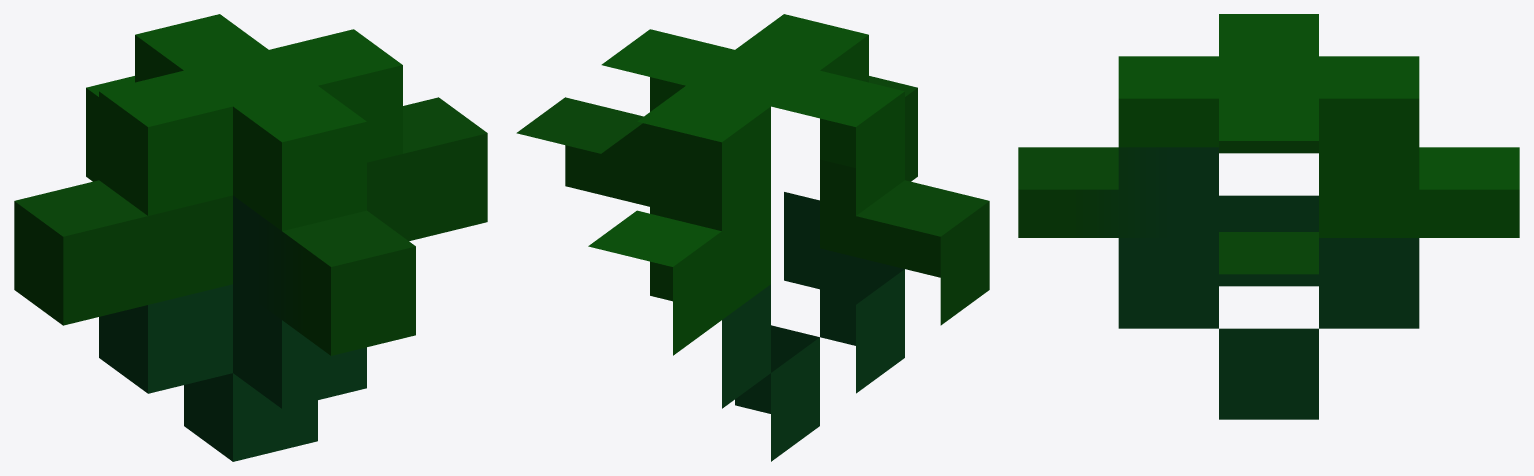
Rendered from Obstacle_Forest_bush_2.fbx.
3 renders of one model, left to right at view 1: azimuth 30°, elevation 25°; view 2: azimuth 150°, elevation 25°; view 3: azimuth 270°, elevation 25°, orthographic. The views are drawn at different scales.
Visible parts, largest first — view 1: Obstacle_Forest_bush_2; view 2: Obstacle_Forest_bush_2; view 3: Obstacle_Forest_bush_2.
Part boxes in pixels (box(x1,y1,x2,y2)): Obstacle_Forest_bush_2: box(14, 14, 487, 461); Obstacle_Forest_bush_2: box(516, 14, 989, 461); Obstacle_Forest_bush_2: box(1018, 14, 1519, 419).
Bounding box in the file's own units: 5 × 4 × 5.
1 material, 1 textured.
